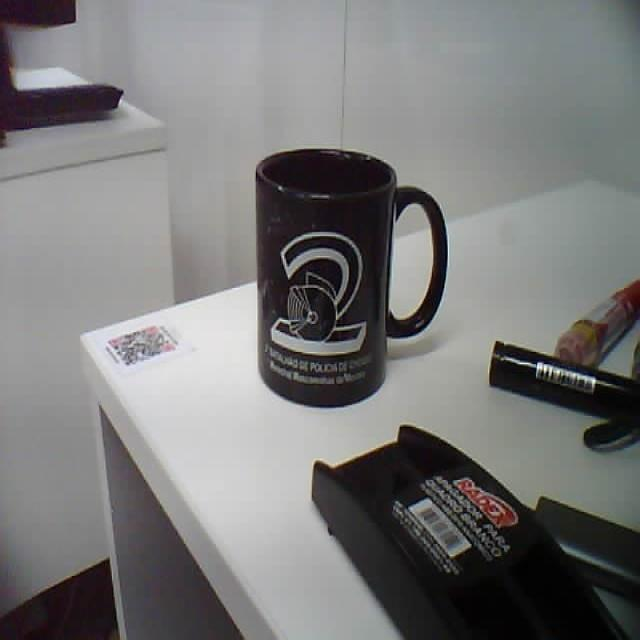caneca: (257, 151, 447, 407)
